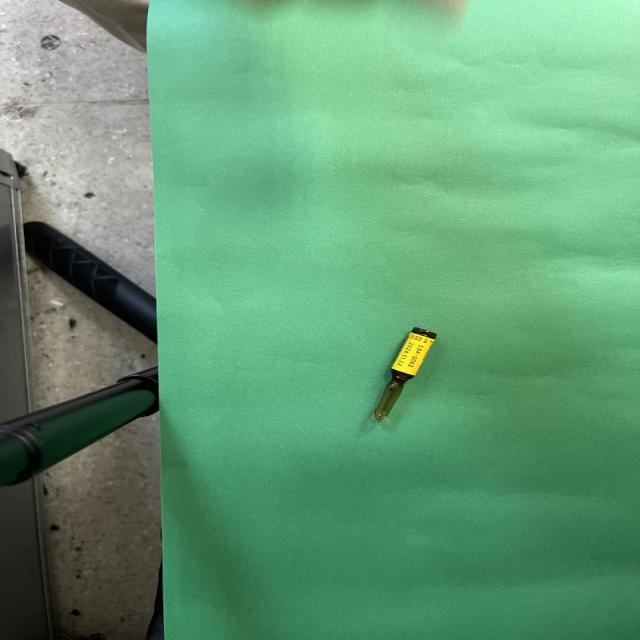Ampoules: (373, 328, 436, 421)
